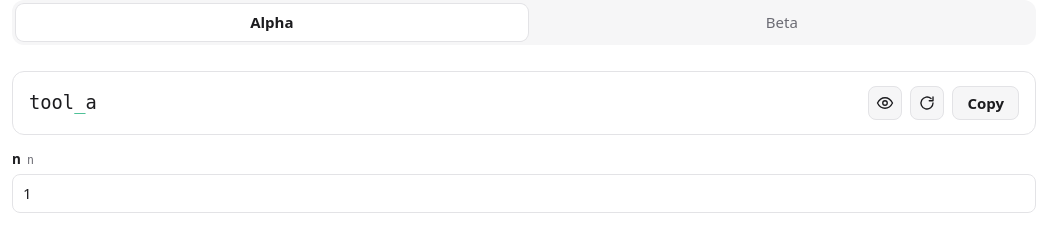
Test: GuiTabsSection › switches tabs by click and does not run a tab that is not live
Click the tab with test id "tab" showing "Beta" at (782, 23), box [532,4,1032,41]
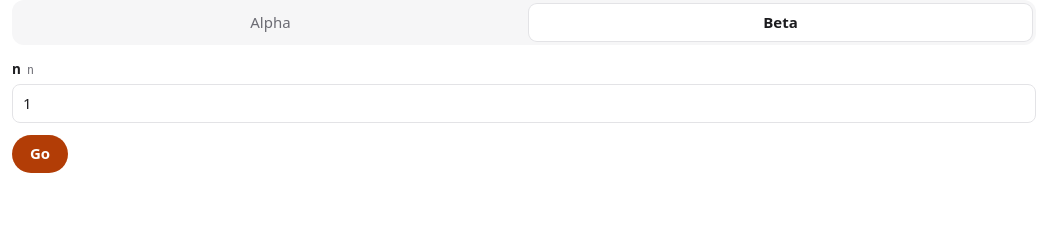
Now the button with class "run" is shown, box [12,135,68,173]
